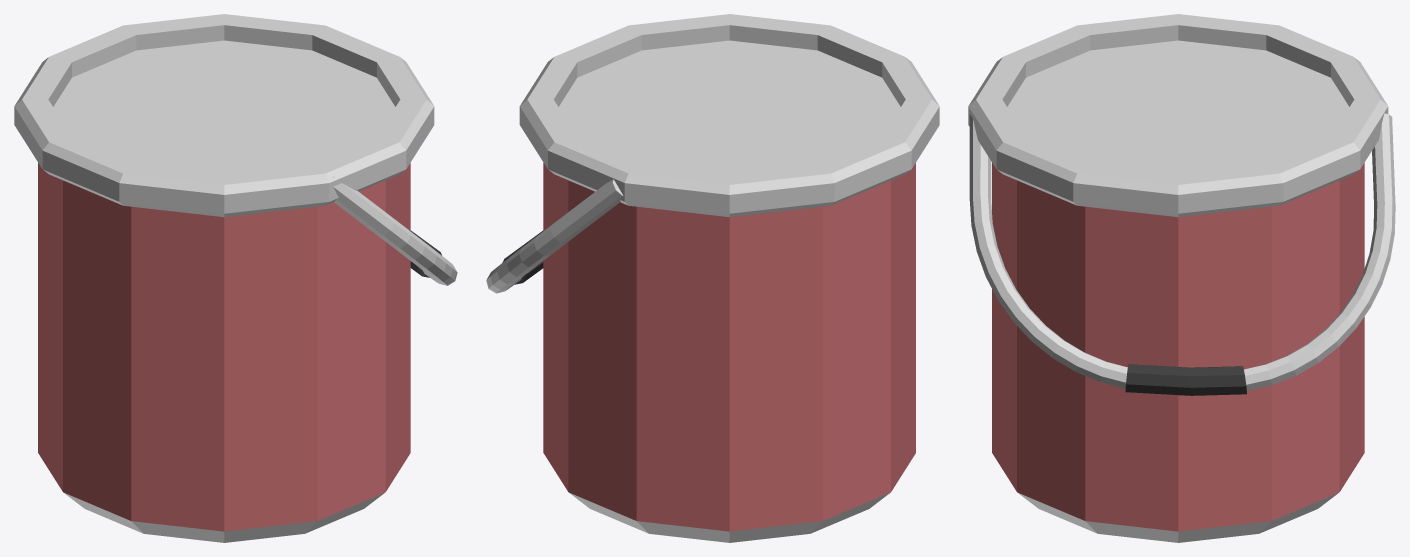
File: Paint Bucket.glb
3 renders of one model, left to right at view 1: azimuth 30°, elevation 25°; view 2: azimuth 150°, elevation 25°; view 3: azimuth 270°, elevation 25°, orthographic.
Parts seen in each view (by area): view 1: Paint Bucket; view 2: Paint Bucket; view 3: Paint Bucket.
Boxes of the visible parts, left/top/right/bottom form: Paint Bucket: left=14, top=14, right=457, bottom=542; Paint Bucket: left=486, top=14, right=939, bottom=542; Paint Bucket: left=968, top=14, right=1395, bottom=542.
Bounding box in the file's own units: 53.79 × 50.93 × 52.55.
